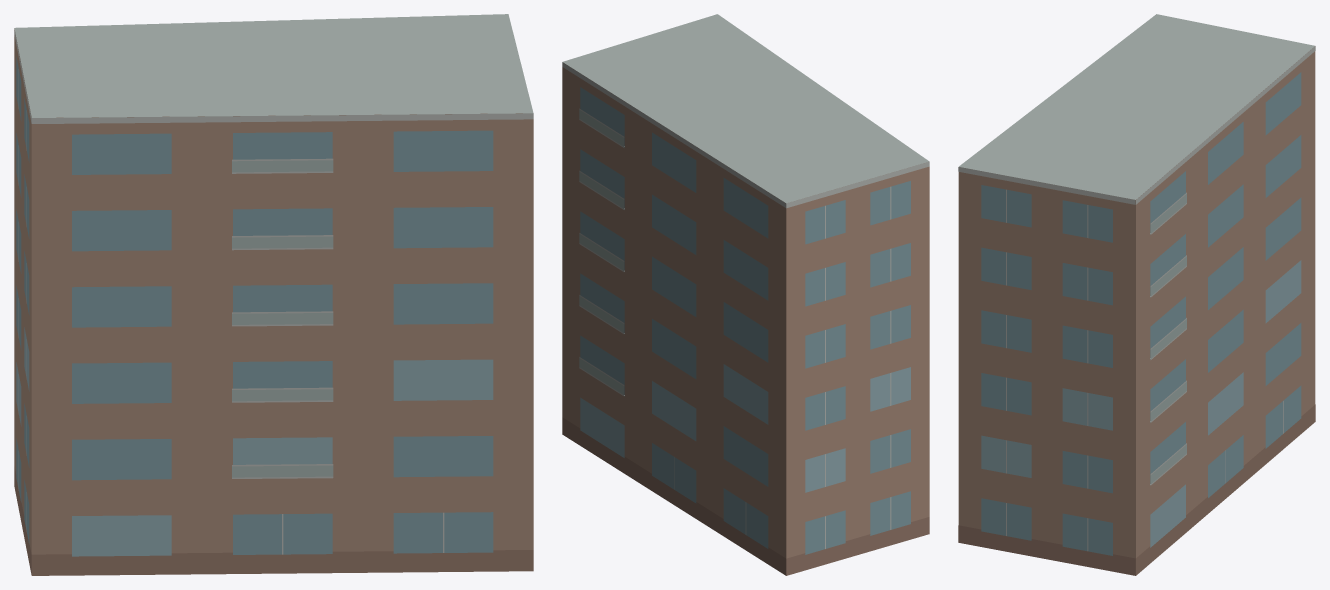
Rendered from survey-upis-33006057.glb.
The picture shows the model from 3 angles, left to right: view 1: azimuth 30°, elevation 25°; view 2: azimuth 150°, elevation 25°; view 3: azimuth 270°, elevation 25°; orthographic projection. The views are drawn at different scales.
Parts seen in each view (by area): view 1: survey-upis-33006057.tmp; view 2: survey-upis-33006057.tmp; view 3: survey-upis-33006057.tmp.
Boxes of the visible parts, left/top/right/bottom form: survey-upis-33006057.tmp: left=14, top=14, right=533, bottom=575; survey-upis-33006057.tmp: left=562, top=14, right=929, bottom=575; survey-upis-33006057.tmp: left=958, top=14, right=1315, bottom=575.
Size of the model in its own units: 19.42 by 18.3 by 15.76.
